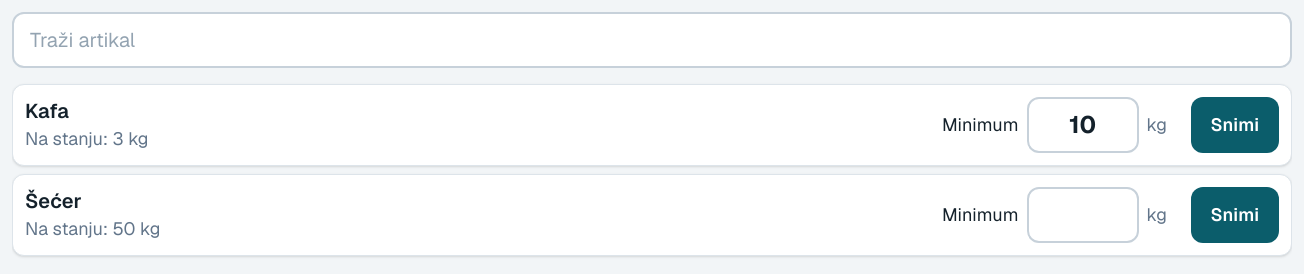
Test: zadavanje minimuma › snima minimum samo za artikal čije je dugme pritisnuto
This screenshot has width=1304, height=274.
In the field named "Minimum Šećer": (1082, 215) [1026,187,1138,243], type "25,5"
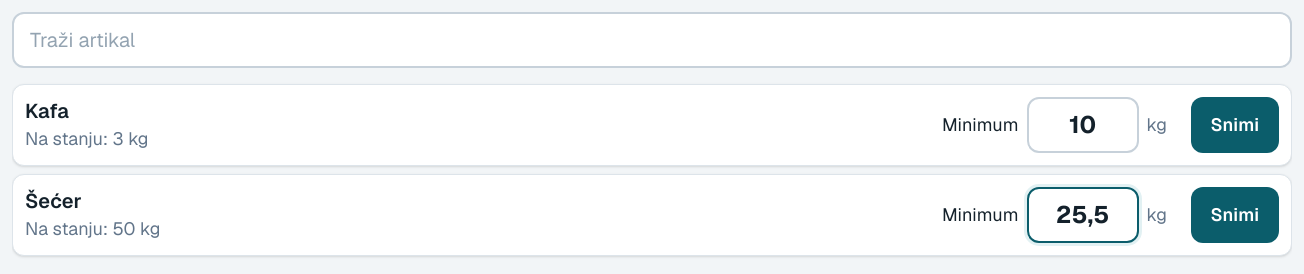
Click the button "Snimi" in the row of "50": (1235, 215) [1190,187,1279,243]
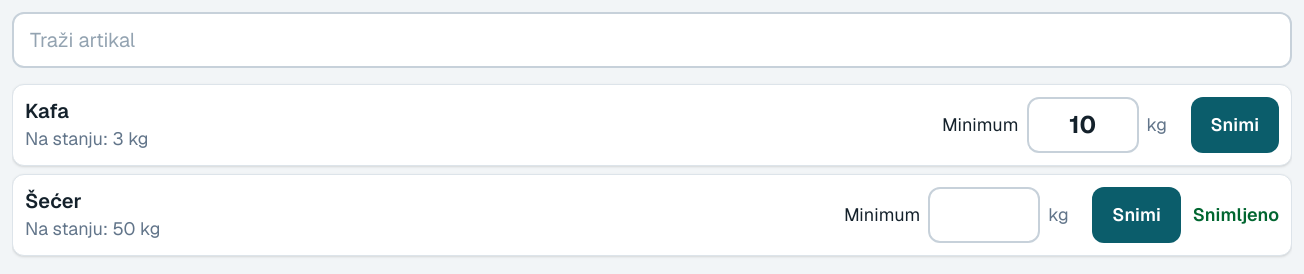
Expected: the text "Snimljeno" is shown, [1193,201,1279,229]
